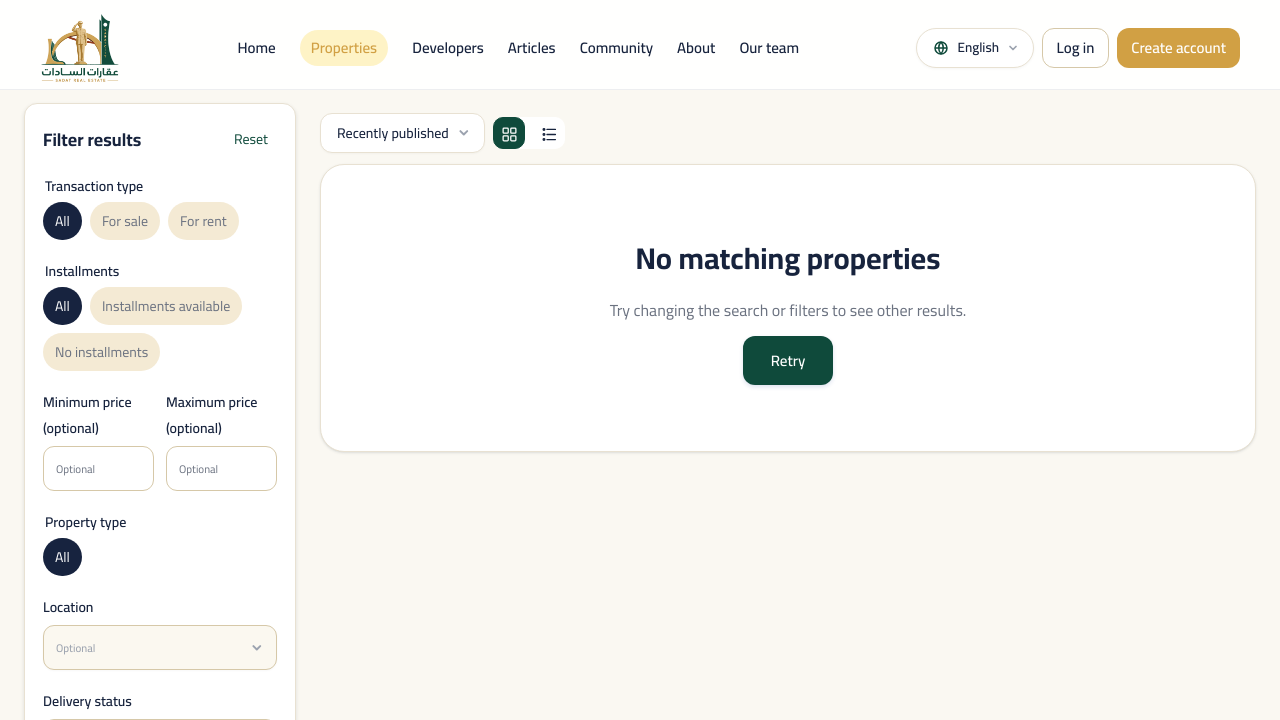
Test: public property listing › renders empty and loading-to-success states with retry
(page scrolled)
Expected: the message "No matching properties" is shown, [320, 164, 1256, 452]
Click the button "Retry" at (788, 360), box [743, 336, 833, 385]
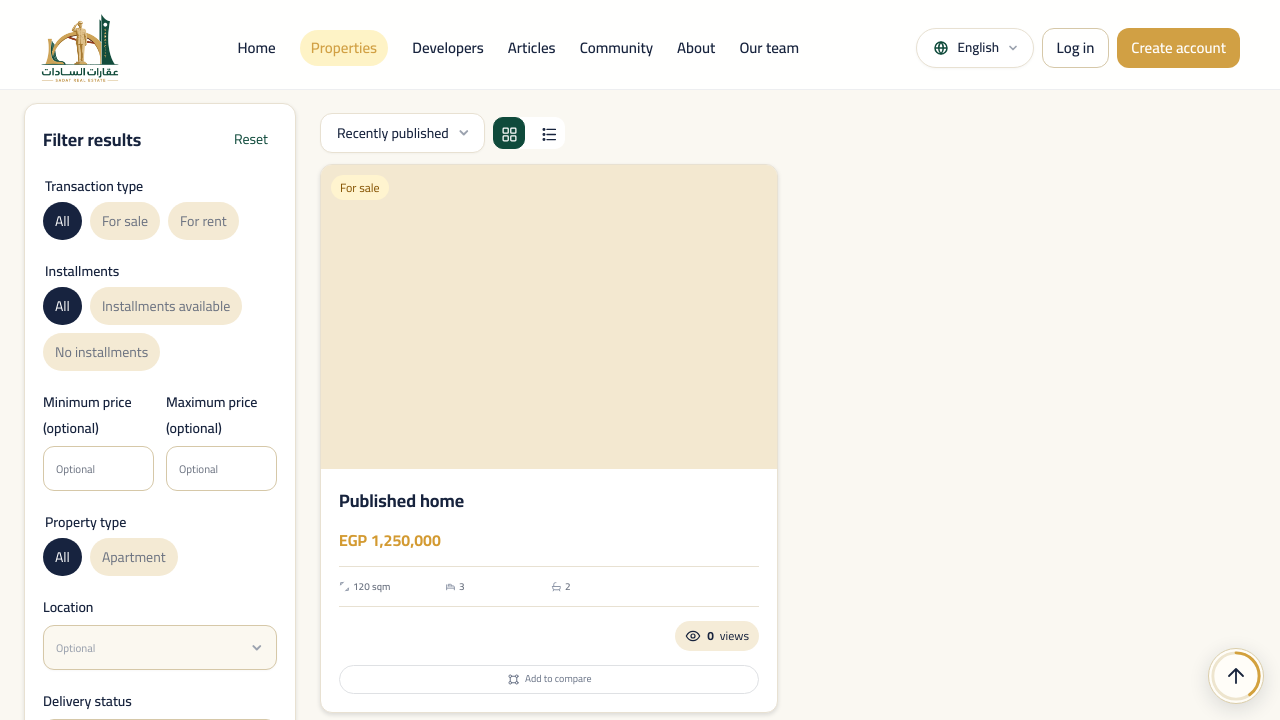
Now the link "Published home" is shown, box [339, 484, 464, 517]
